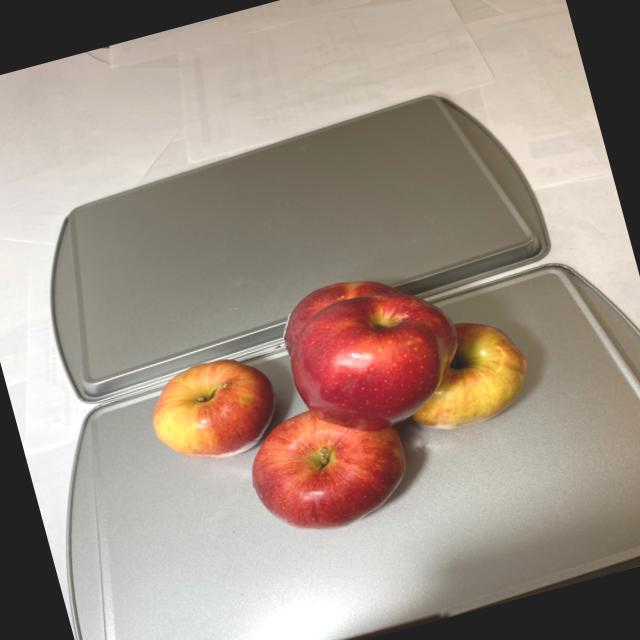apple: (120, 238, 559, 572)
